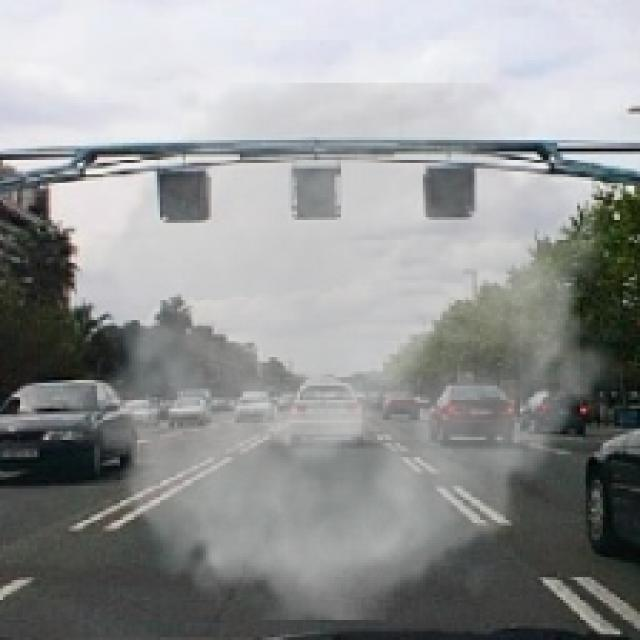smoke: (60, 83, 629, 620)
